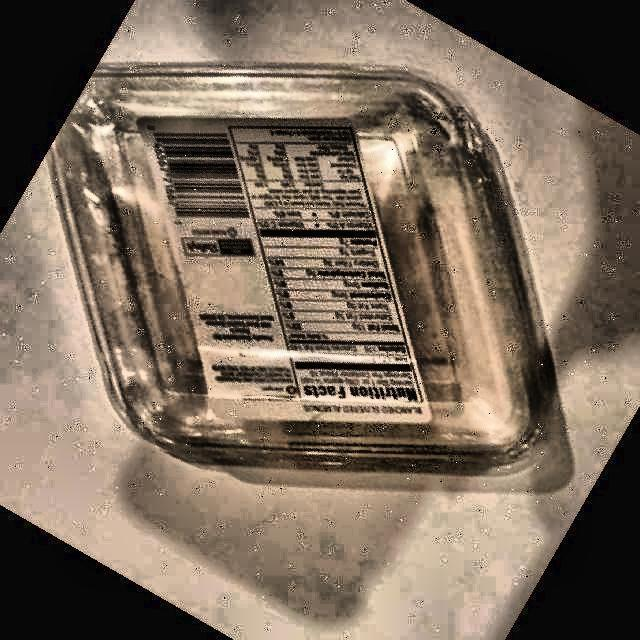plastic: (51, 66, 559, 473)
